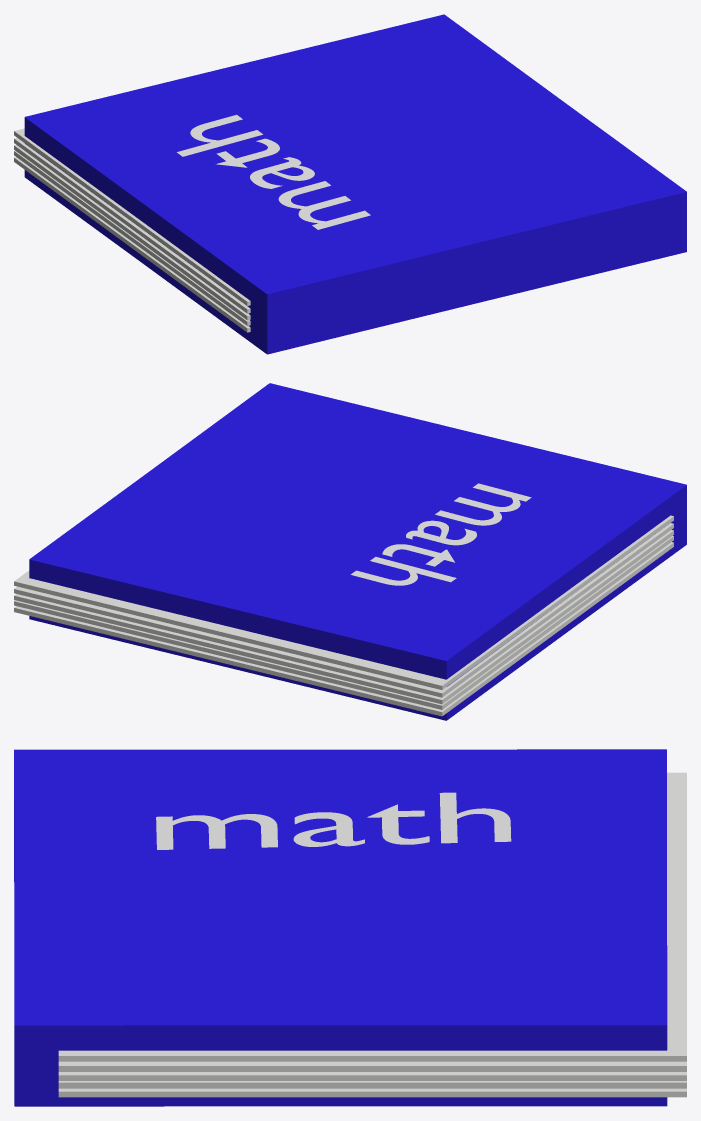
3 renders of one model, top to bottom at view 1: azimuth 30°, elevation 25°; view 2: azimuth 150°, elevation 25°; view 3: azimuth 270°, elevation 25°, orthographic. The views are drawn at different scales.
Parts seen in each view (by area): view 1: Collection|Cube|Dupli|, Cube, Cube.001, 수학; view 2: Collection|Cube|Dupli|, Cube.001, 수학; view 3: Collection|Cube|Dupli|, Cube.001, Cube, 수학.
Boxes of the visible parts, bbox=[...] form: Collection|Cube|Dupli|: bbox=[24, 14, 686, 354]; Cube: bbox=[109, 192, 686, 352]; Cube.001: bbox=[14, 128, 250, 332]; 수학: bbox=[177, 114, 370, 229]; Collection|Cube|Dupli|: bbox=[29, 383, 686, 720]; Cube.001: bbox=[14, 515, 673, 716]; 수학: bbox=[350, 483, 531, 585]; Collection|Cube|Dupli|: bbox=[14, 749, 667, 1106]; Cube.001: bbox=[58, 772, 686, 1097]; Cube: bbox=[14, 801, 667, 1106]; 수학: bbox=[156, 792, 511, 849].
Bounding box in the file's own units: 418 × 62.21 × 420.
